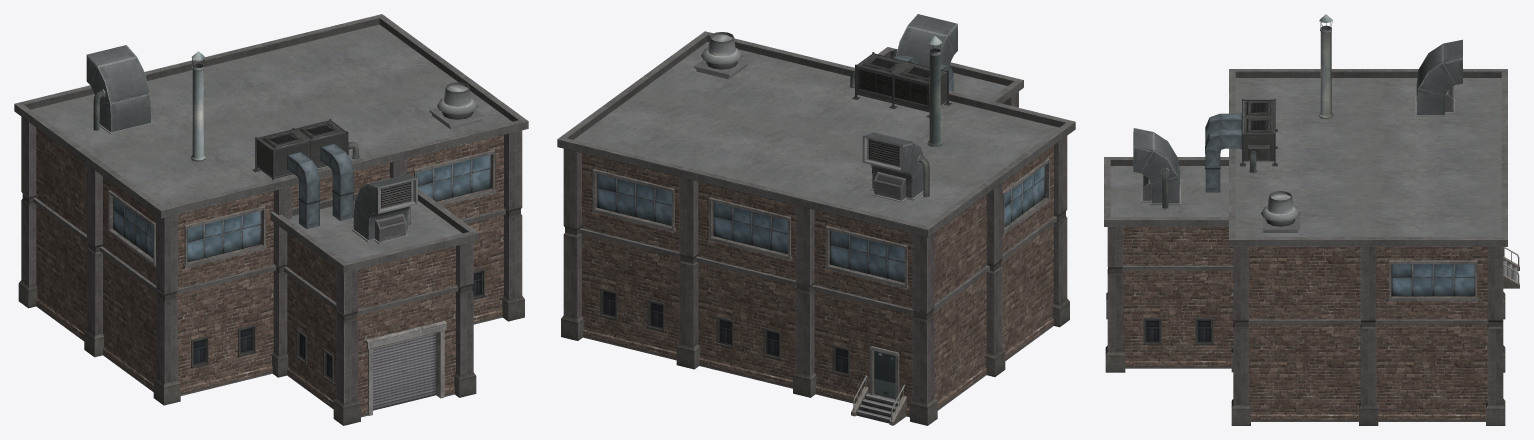
File: small_building2_FBX.FBX
3 renders of one model, left to right at view 1: azimuth 30°, elevation 25°; view 2: azimuth 150°, elevation 25°; view 3: azimuth 270°, elevation 25°, orthographic. The views are drawn at different scales.
Parts seen in each view (by area): view 1: storage2, port011, aircon_012, window1_013, aircon_010, aircon1_021, window1_012, window1_014, roofprops005, roofprops1a002, vents1_curved010, vents1_curved011 (+4 smaller); view 2: storage2, aircon1_021, aircon_012, window1_011, window1_009, window1_010, aircon_010, window1_014, roofprops005, stair1, doors007, roofprops1a002 (+5 smaller); view 3: storage2, window1_015, aircon_010, aircon_012, aircon1_021, roofprops005, roofprops1a002, vents1_curved010, vents1_curved011, stair1, window012, window013 (+1 smaller).
Boxes of the visible parts, x1,y1,x2,y2 form: storage2: [14, 14, 528, 425]; port011: [366, 321, 446, 415]; aircon_012: [86, 45, 152, 133]; window1_013: [183, 206, 266, 268]; aircon_010: [352, 174, 417, 244]; aircon1_021: [252, 119, 359, 180]; window1_012: [414, 150, 495, 205]; window1_014: [107, 190, 156, 267]; roofprops005: [429, 82, 485, 129]; roofprops1a002: [191, 51, 205, 161]; vents1_curved010: [320, 143, 353, 194]; vents1_curved011: [287, 151, 319, 202]; storage2: [557, 31, 1075, 425]; aircon1_021: [849, 52, 951, 117]; aircon_012: [862, 132, 930, 202]; window1_011: [592, 169, 675, 232]; window1_009: [825, 226, 908, 289]; window1_010: [708, 197, 792, 260]; aircon_010: [891, 14, 957, 66]; window1_014: [1002, 158, 1050, 235]; roofprops005: [693, 32, 750, 79]; stair1: [851, 375, 906, 425]; doors007: [869, 346, 899, 401]; roofprops1a002: [927, 36, 942, 146]; storage2: [1104, 69, 1507, 425]; window1_015: [1388, 260, 1478, 301]; aircon_010: [1133, 128, 1180, 209]; aircon_012: [1415, 39, 1462, 116]; aircon1_021: [1240, 98, 1277, 173]; roofprops005: [1261, 191, 1300, 232]; roofprops1a002: [1318, 14, 1333, 119]; vents1_curved010: [1205, 129, 1242, 167]; vents1_curved011: [1205, 113, 1242, 142]; stair1: [1503, 247, 1519, 288]; window012: [1143, 317, 1161, 344]; window013: [1195, 317, 1213, 344].
Size of the model in its own units: 193 by 150 by 198.
